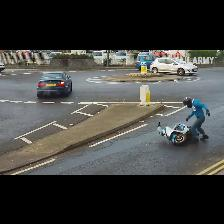person: (184, 97, 210, 143)
